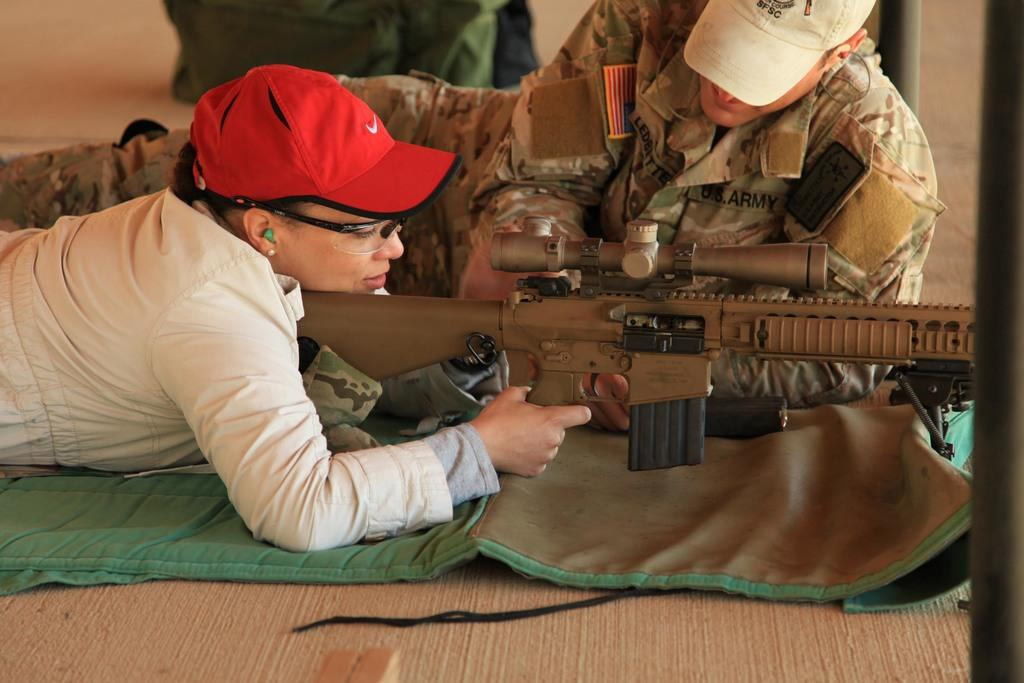Hat: (188, 62, 462, 214), (682, 0, 874, 108)
